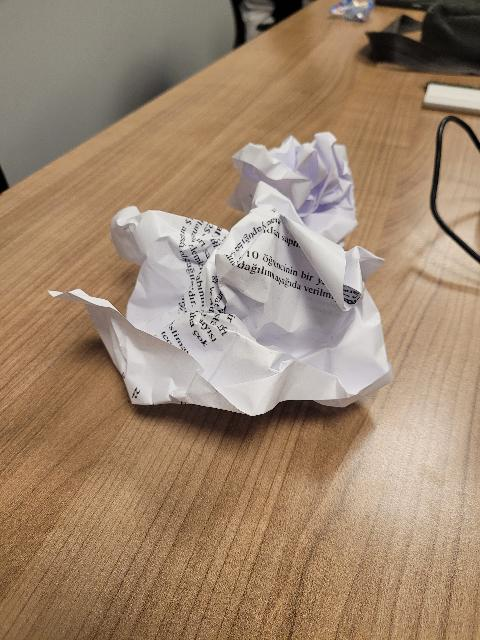Kagit: (52, 208, 393, 424), (233, 130, 363, 243)
